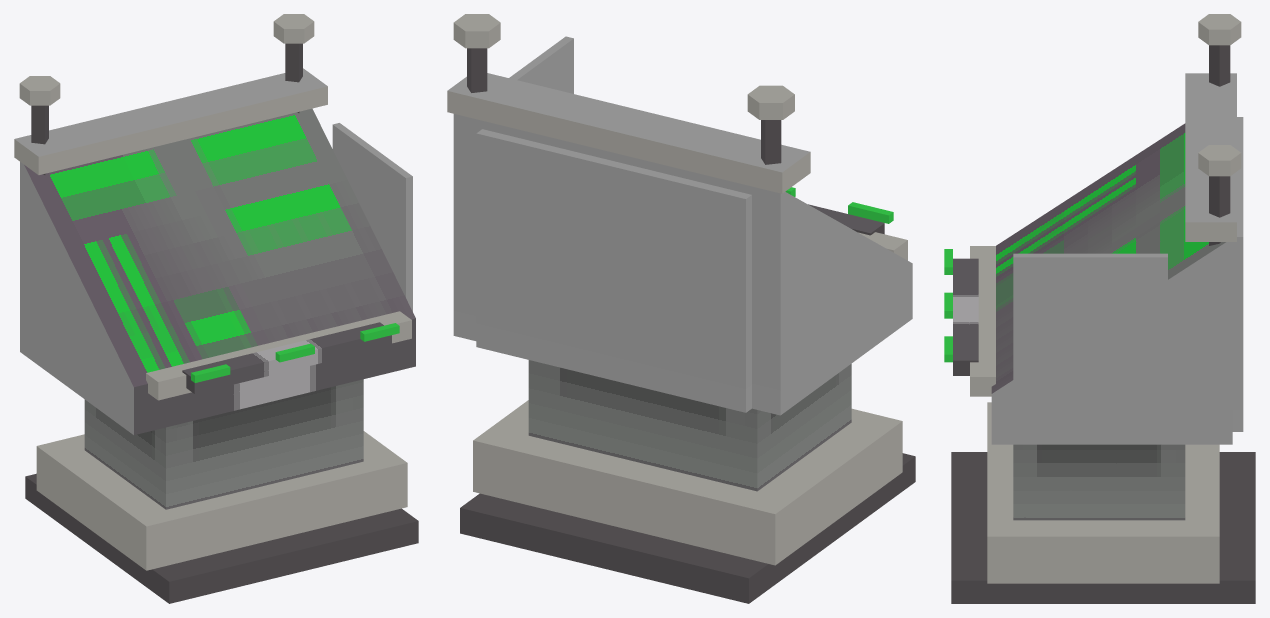
File: Building_AncientTerminal_Worshipful.glb
The picture shows the model from 3 angles, left to right: view 1: azimuth 30°, elevation 25°; view 2: azimuth 150°, elevation 25°; view 3: azimuth 270°, elevation 25°; orthographic projection. The views are drawn at different scales.
Visible parts, largest first — view 1: AncientTerminal_Worshipful; view 2: AncientTerminal_Worshipful; view 3: AncientTerminal_Worshipful.
Boxes of the visible parts, box(x1,y1,x2,y2) form: AncientTerminal_Worshipful: box(14, 14, 418, 603); AncientTerminal_Worshipful: box(447, 14, 915, 603); AncientTerminal_Worshipful: box(944, 14, 1255, 603).
Bounding box in the file's own units: 0.83 × 1.16 × 0.7236.
1 material, 1 textured.
